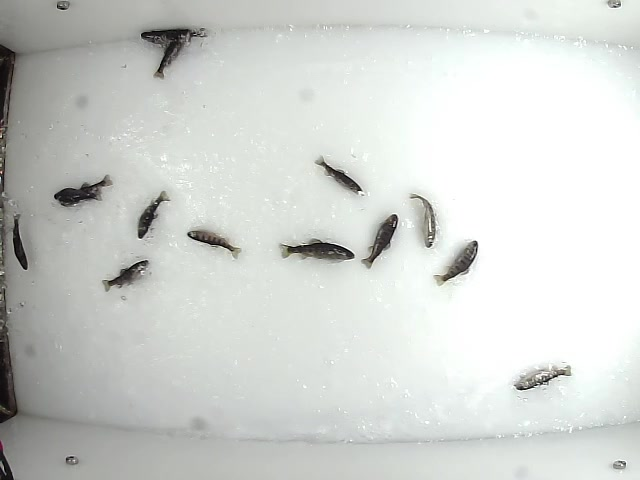fish: (358, 211, 399, 271), (277, 233, 358, 263), (433, 239, 479, 288), (133, 188, 171, 242), (312, 155, 363, 195), (185, 228, 247, 260), (509, 362, 572, 392), (50, 174, 116, 201), (100, 258, 149, 294), (409, 189, 437, 250), (139, 22, 211, 44), (152, 36, 185, 82), (8, 210, 31, 272), (53, 186, 103, 208)
